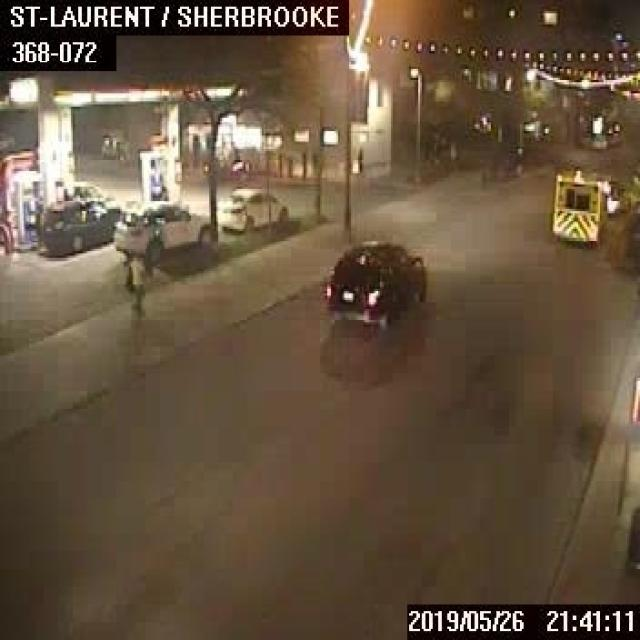pedestrian: (127, 247, 144, 313)
vehicle: (322, 241, 426, 320), (113, 199, 208, 262), (41, 196, 126, 256), (549, 168, 605, 242), (216, 185, 288, 231)
